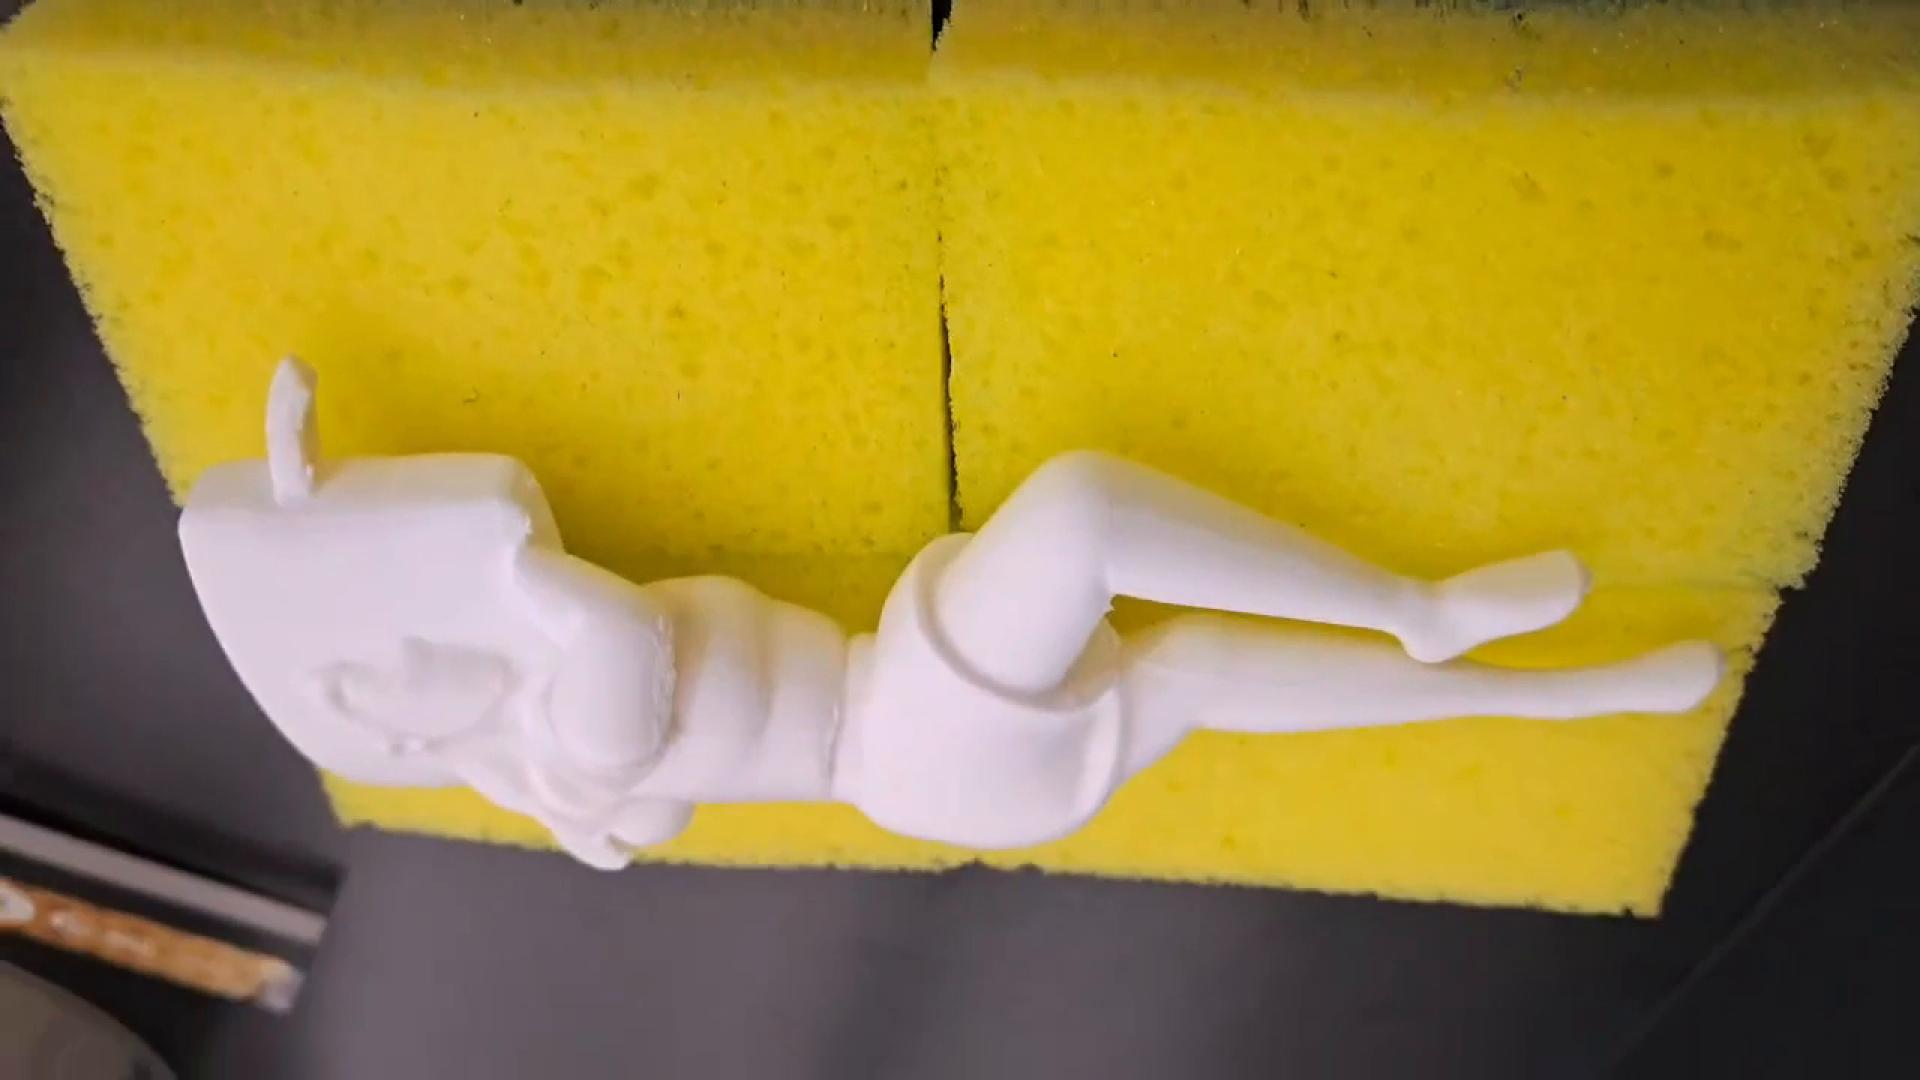Good-style: (160, 338, 1730, 882)
